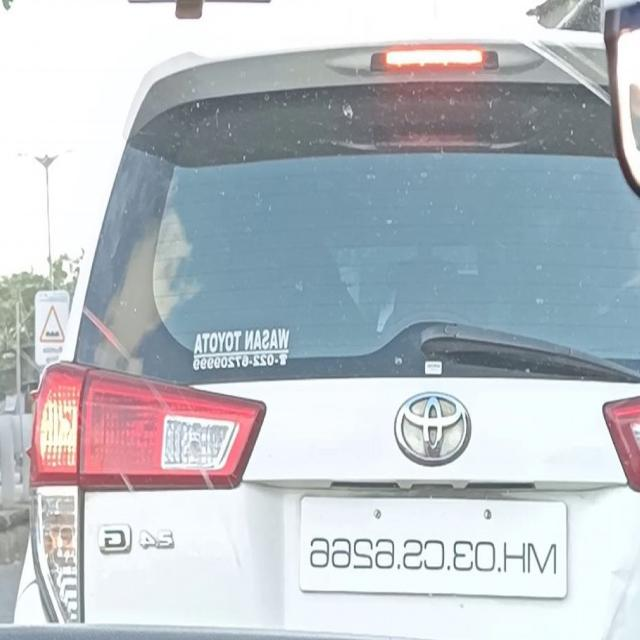license_plate: (290, 482, 575, 609)
